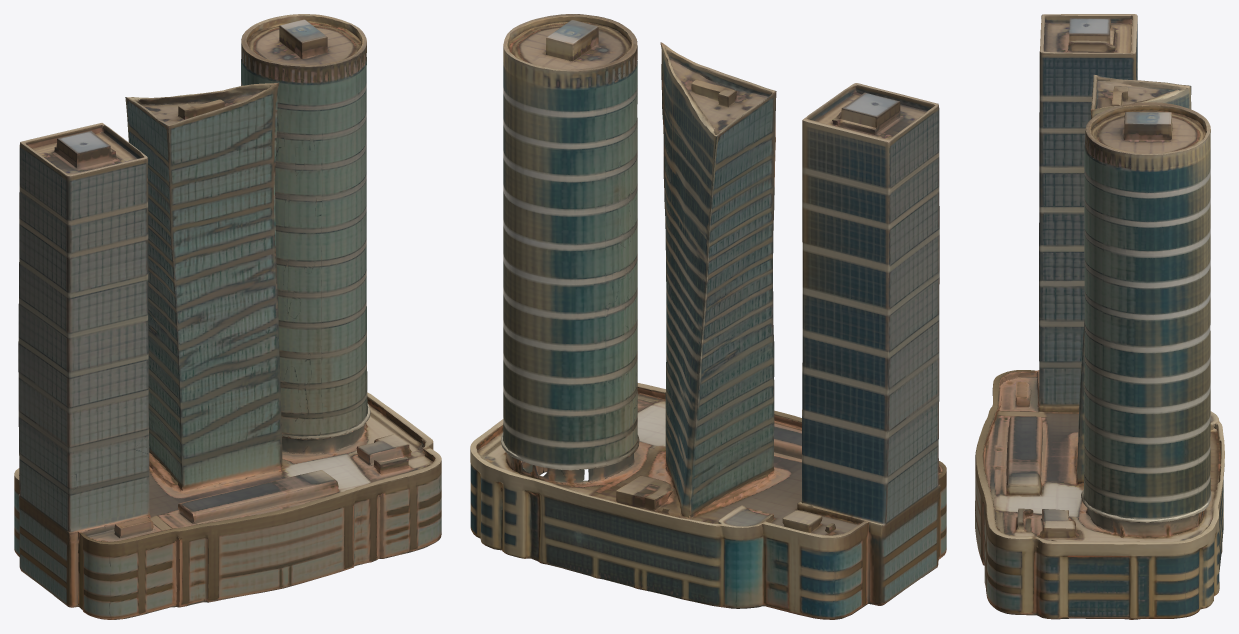
The model's file is lm_azrieli_towers_nb.glb.
The picture shows the model from 3 angles, left to right: view 1: azimuth 30°, elevation 25°; view 2: azimuth 150°, elevation 25°; view 3: azimuth 270°, elevation 25°; orthographic projection. The views are drawn at different scales.
Visible parts, largest first — view 1: geometry_0; view 2: geometry_0; view 3: geometry_0.
Boxes of the visible parts, <box> form: geometry_0: <box>14,14,441,619</box>; geometry_0: <box>470,14,946,619</box>; geometry_0: <box>975,14,1224,619</box>.
Size of the model in its own units: 157 by 190 by 92.74.
1 material, 1 textured.
